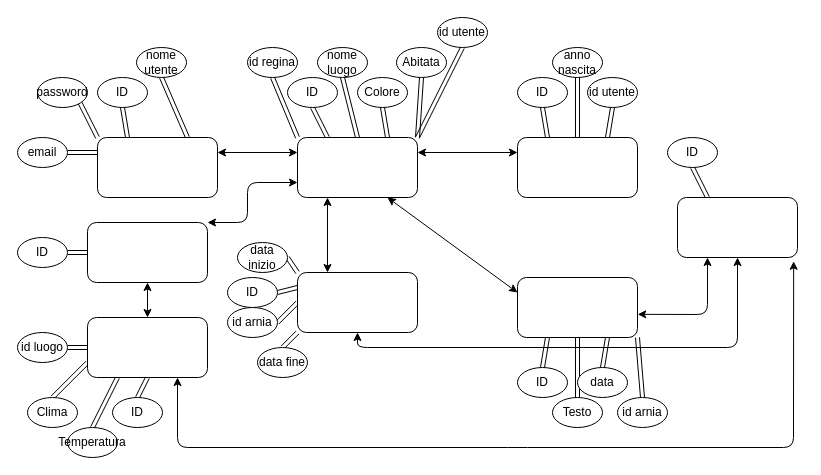
Image size: 821x475. Some labels were removed from this diagram. The shapes that lost their labels are listed below. From the top down, each one's centre as x and y in pixels, then its label:
At (x=157, y=167): "Utente".
At (x=357, y=167): "Arnia".
At (x=577, y=167): "Regina".
At (x=737, y=227): "Calendario".
At (x=147, y=252): "Luogo".
At (x=357, y=302): "Trattamento".
At (x=577, y=307): "Annotazione".
At (x=147, y=347): "Meteo".
